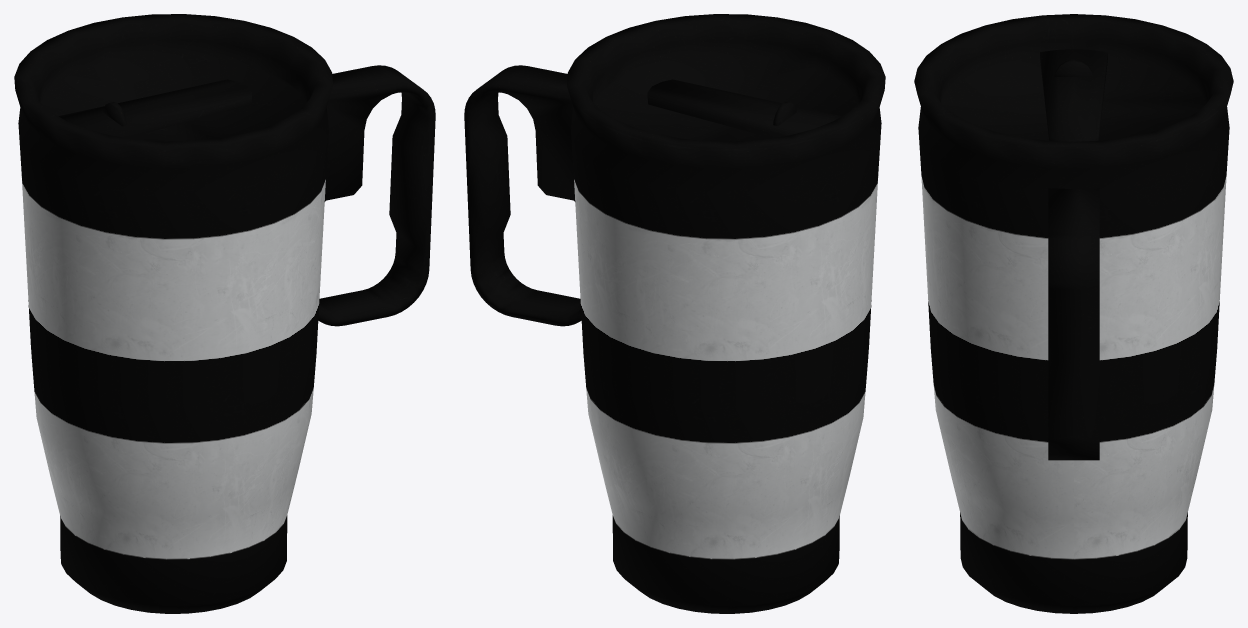
File: coffeeMug.fbx
3 views of the same model, side by side, from view 1: azimuth 30°, elevation 25°; view 2: azimuth 150°, elevation 25°; view 3: azimuth 270°, elevation 25° (orthographic).
Parts seen in each view (by area): view 1: CoffeeMug; view 2: CoffeeMug; view 3: CoffeeMug.
Boxes of the visible parts, x1,y1,x2,y2 form: CoffeeMug: (14, 14, 435, 613); CoffeeMug: (464, 14, 885, 613); CoffeeMug: (914, 14, 1233, 613).
Size of the model in its own units: 26.37 by 32 by 18.84.
Materials: 1 (1 with a texture image).
